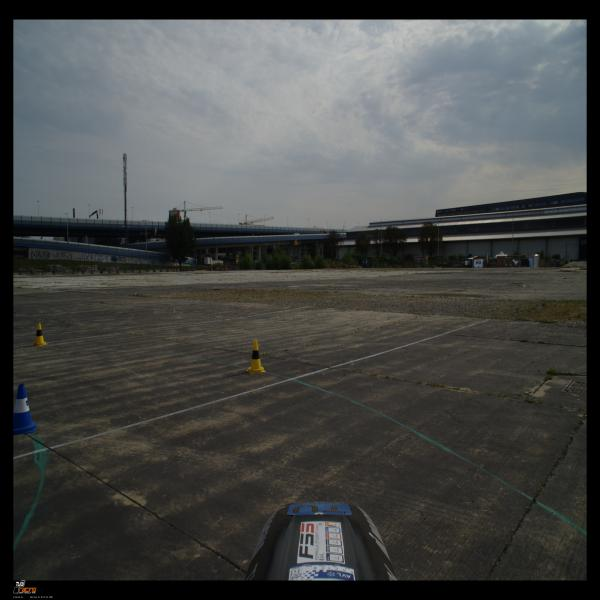blue_cone: (13, 383, 38, 435)
yellow_cone: (246, 340, 266, 374), (30, 323, 48, 346)
